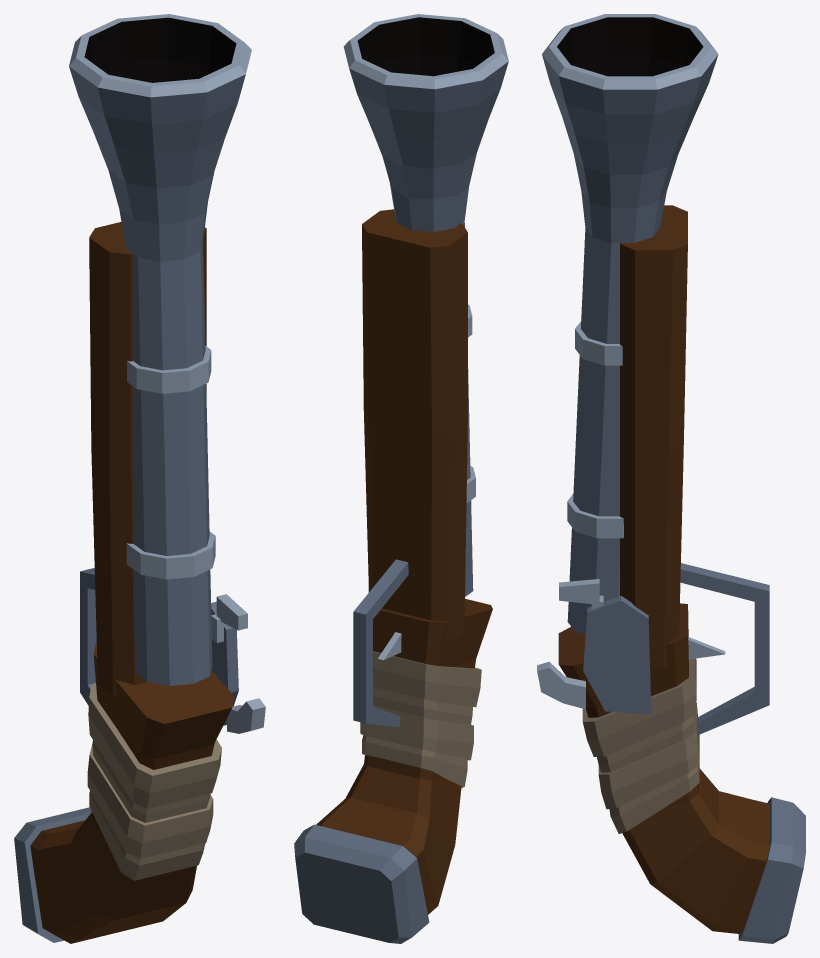
Rendered from gun_common.glb.
3 views of the same model, side by side, from view 1: azimuth 30°, elevation 25°; view 2: azimuth 150°, elevation 25°; view 3: azimuth 270°, elevation 25° (orthographic). The views are drawn at different scales.
Parts seen in each view (by area): view 1: gun_common; view 2: gun_common; view 3: gun_common.
Boxes of the visible parts, <box> form: gun_common: <box>14,14,265,943</box>; gun_common: <box>294,14,508,943</box>; gun_common: <box>537,14,805,943</box>.
Bounding box in the file's own units: 24.73 × 142 × 39.54.
